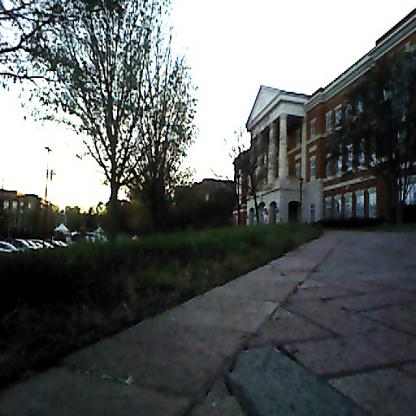Edge: (0, 235, 343, 416)
Sidewalk: (186, 232, 416, 416)
